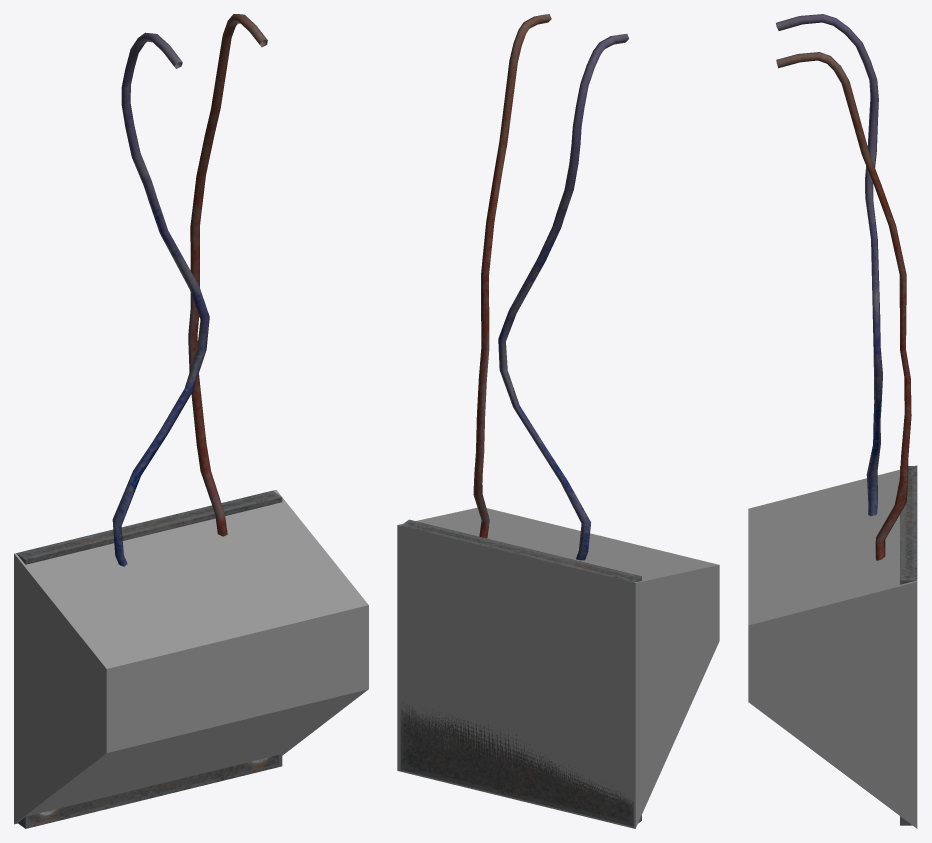
Rendered from Surveillance_Camera_01a_snaps020_Support.fbx.
3 views of the same model, side by side, from view 1: azimuth 30°, elevation 25°; view 2: azimuth 150°, elevation 25°; view 3: azimuth 270°, elevation 25° (orthographic). The views are drawn at different scales.
Parts seen in each view (by area): view 1: Surveillance_Camera_01a_COL_snaps020_Support, Surveillance_Camera_01a_snaps020_Support_LOD0; view 2: Surveillance_Camera_01a_COL_snaps020_Support, Surveillance_Camera_01a_snaps020_Support_LOD0; view 3: Surveillance_Camera_01a_COL_snaps020_Support, Surveillance_Camera_01a_snaps020_Support_LOD0.
Boxes of the visible parts, x1,y1,x2,y2 form: Surveillance_Camera_01a_COL_snaps020_Support: (14,490,368,824); Surveillance_Camera_01a_snaps020_Support_LOD0: (16,14,282,828); Surveillance_Camera_01a_COL_snaps020_Support: (397,507,719,828); Surveillance_Camera_01a_snaps020_Support_LOD0: (400,14,641,826); Surveillance_Camera_01a_COL_snaps020_Support: (748,465,917,828); Surveillance_Camera_01a_snaps020_Support_LOD0: (776,14,917,825).
Size of what is drawn, in the model's own units: 0.19 by 0.5593 by 0.1165.
2 materials, 1 textured.
